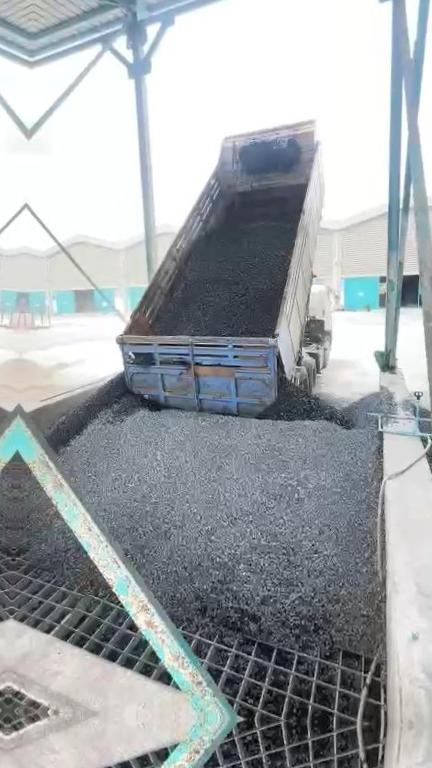gravel: (61, 401, 382, 654), (154, 185, 306, 336), (14, 456, 119, 602), (260, 375, 399, 429), (45, 374, 138, 452)
sand: (19, 359, 81, 410)
